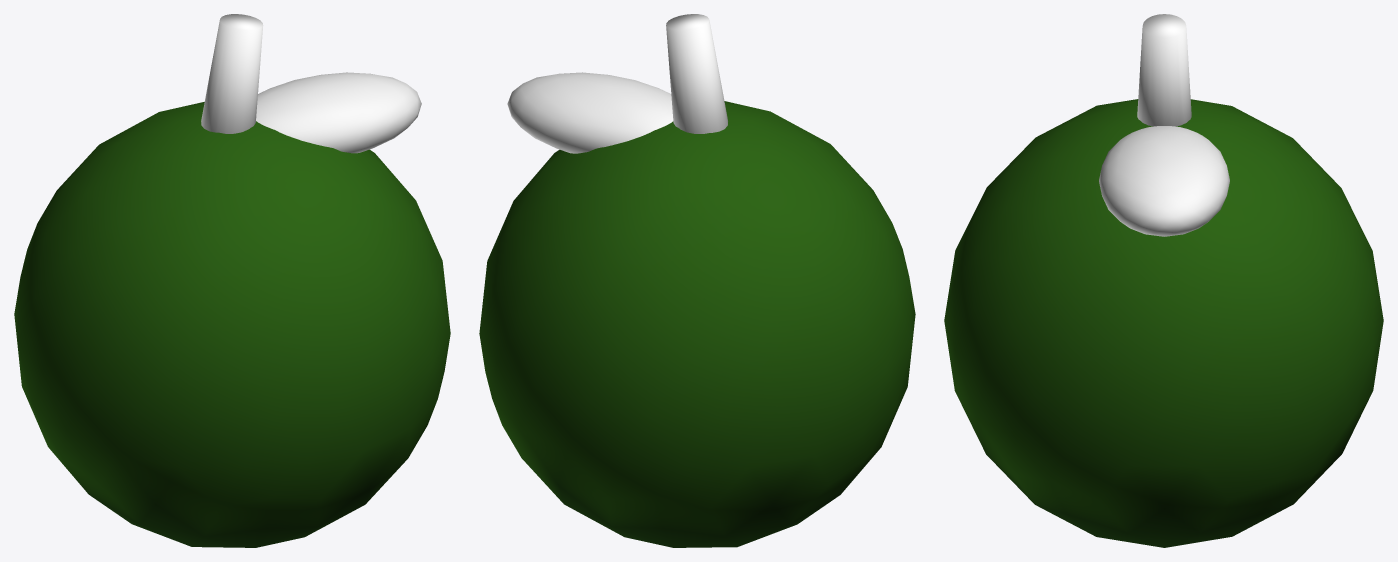
File: green-apple.obj
The picture shows the model from 3 angles, left to right: view 1: azimuth 30°, elevation 25°; view 2: azimuth 150°, elevation 25°; view 3: azimuth 270°, elevation 25°; orthographic projection.
Parts seen in each view (by area): view 1: green-apple; view 2: green-apple; view 3: green-apple.
Boxes of the visible parts, box(x1,y1,x2,y2) form: green-apple: box(14, 14, 450, 547); green-apple: box(479, 14, 915, 547); green-apple: box(944, 14, 1383, 547).
Bounding box in the file's own units: 0.1604 × 0.2056 × 0.1606.
